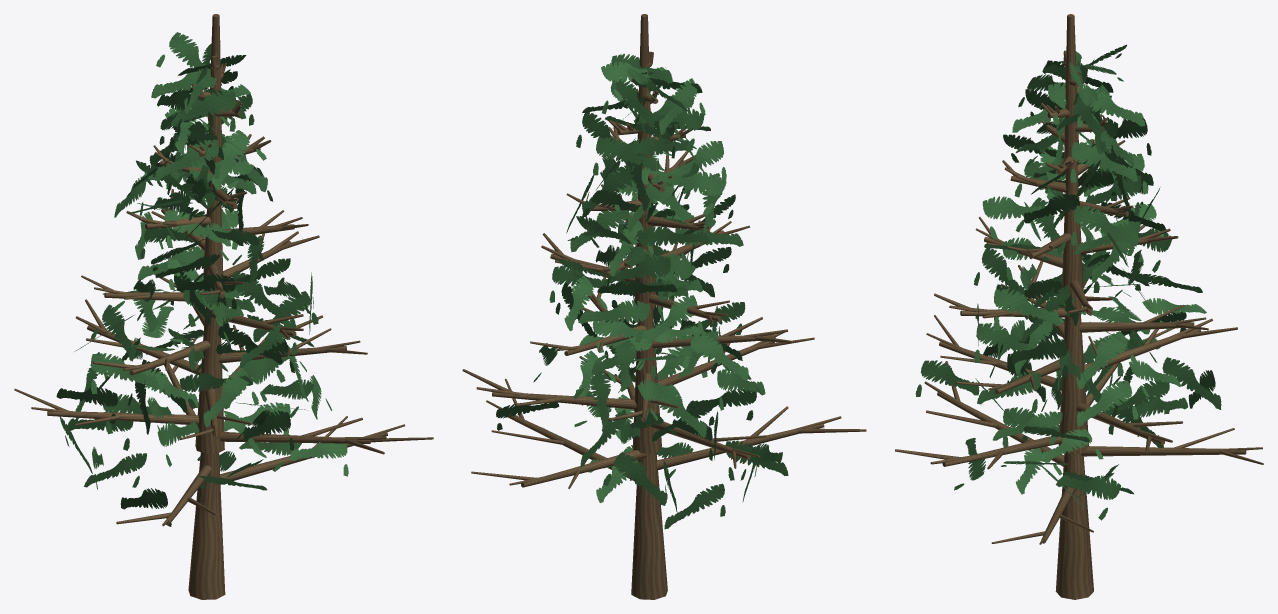
3 renders of one model, left to right at view 1: azimuth 30°, elevation 25°; view 2: azimuth 150°, elevation 25°; view 3: azimuth 270°, elevation 25°, orthographic.
Parts seen in each view (by area): view 1: pine-needle, pine-bark; view 2: pine-needle, pine-bark; view 3: pine-needle, pine-bark.
Part boxes in pixels (box(x1,y1,x2,y2)): pine-needle: box(56, 32, 348, 526); pine-bark: box(14, 14, 433, 599); pine-needle: box(496, 53, 788, 529); pine-bark: box(462, 14, 866, 599); pine-needle: box(915, 44, 1221, 520); pine-bark: box(895, 14, 1263, 599).
Bounding box in the file's own units: 6.17 × 10.01 × 5.77.
2 materials, 2 textured.
